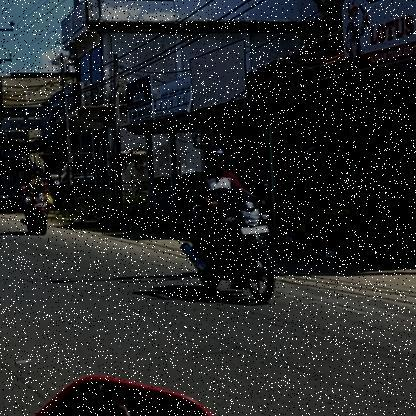motorcycle: (179, 192, 278, 306), (19, 189, 56, 237)
